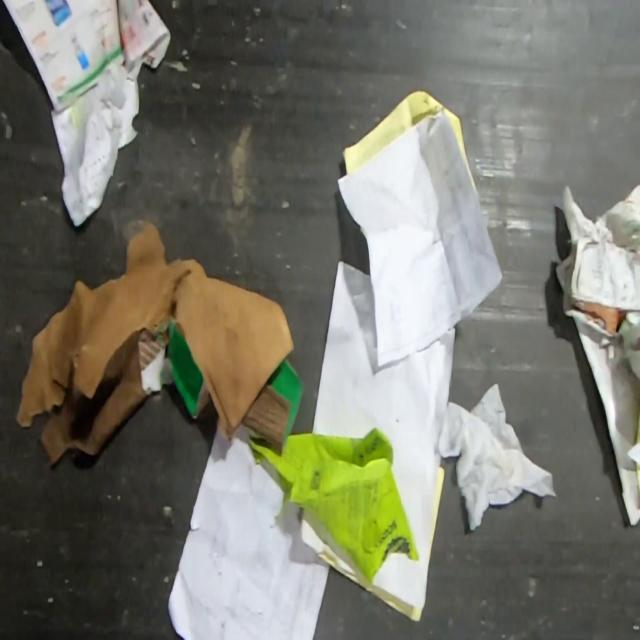cardboard: (14, 218, 306, 467)
